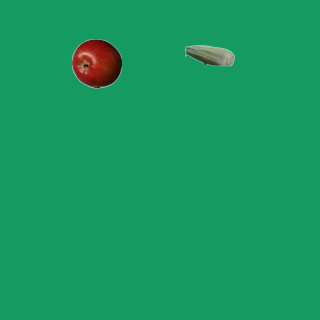Apple Braeburn: (71, 38, 121, 88)
Corn Husk: (184, 30, 234, 80)
